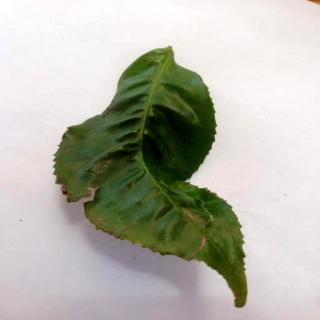Algal Leaf: (58, 46, 251, 312)
